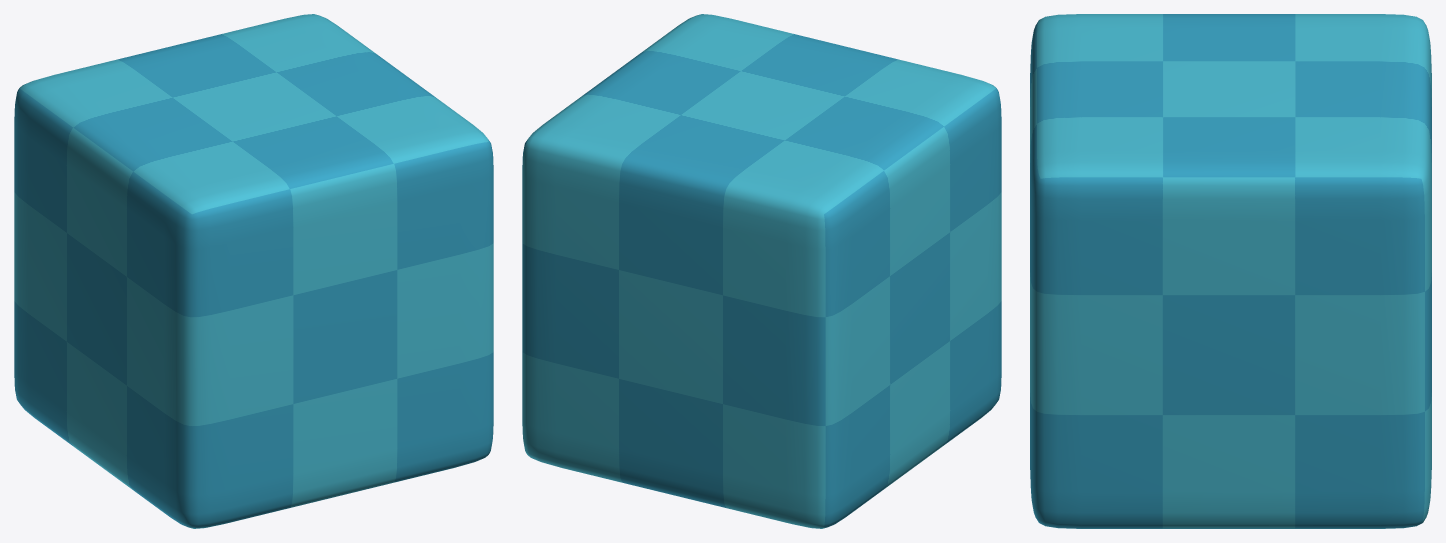
The model's file is static.glb.
3 views of the same model, side by side, from view 1: azimuth 30°, elevation 25°; view 2: azimuth 150°, elevation 25°; view 3: azimuth 270°, elevation 25° (orthographic). The views are drawn at different scales.
Parts seen in each view (by area): view 1: static; view 2: static; view 3: static.
Part boxes in pixels (x1,y1,x2,y2): static: [14, 14, 493, 528]; static: [522, 14, 1001, 528]; static: [1030, 14, 1431, 528].
Size of the model in its own units: 0.9987 by 0.9989 by 0.9989.
Materials: 1 (1 with a texture image).
